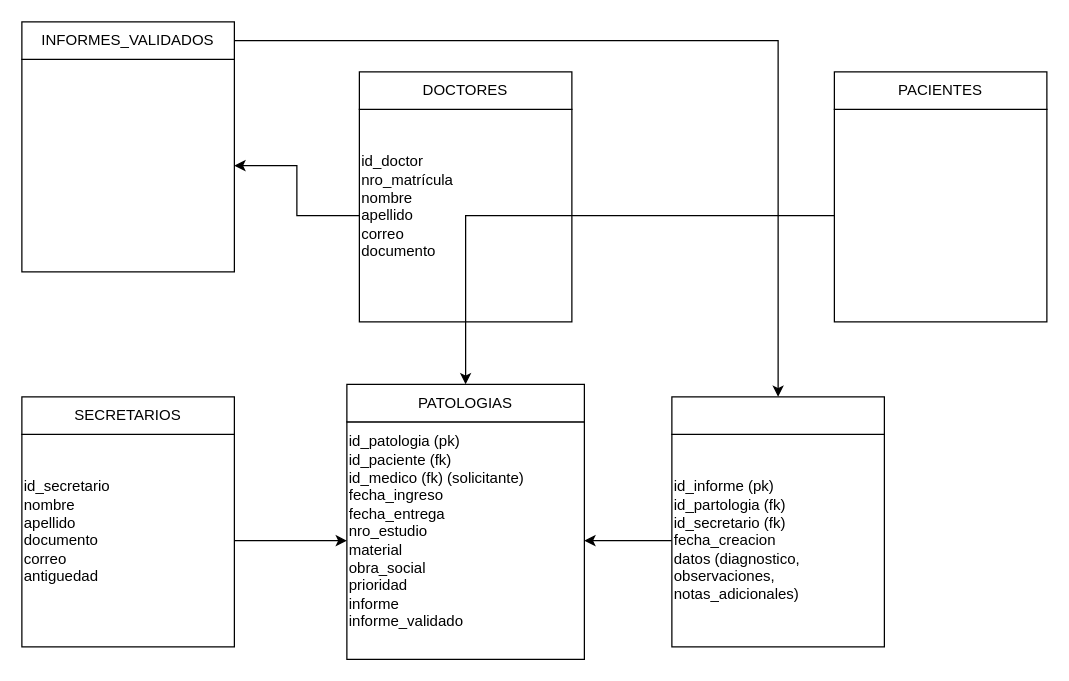
Image size: 1069x681. Some labels were removed from this diagram. Each missing label, with the centre of its shape:
"id_informe_v (pk) id_informe (fk) id_doctor fecha_creacion descripcion" goes at point 127,165.
"id_paciente nombre apellidodocumento correo historia_clinica" goes at point 940,215.
"INFORMES" goes at point 777,415.
